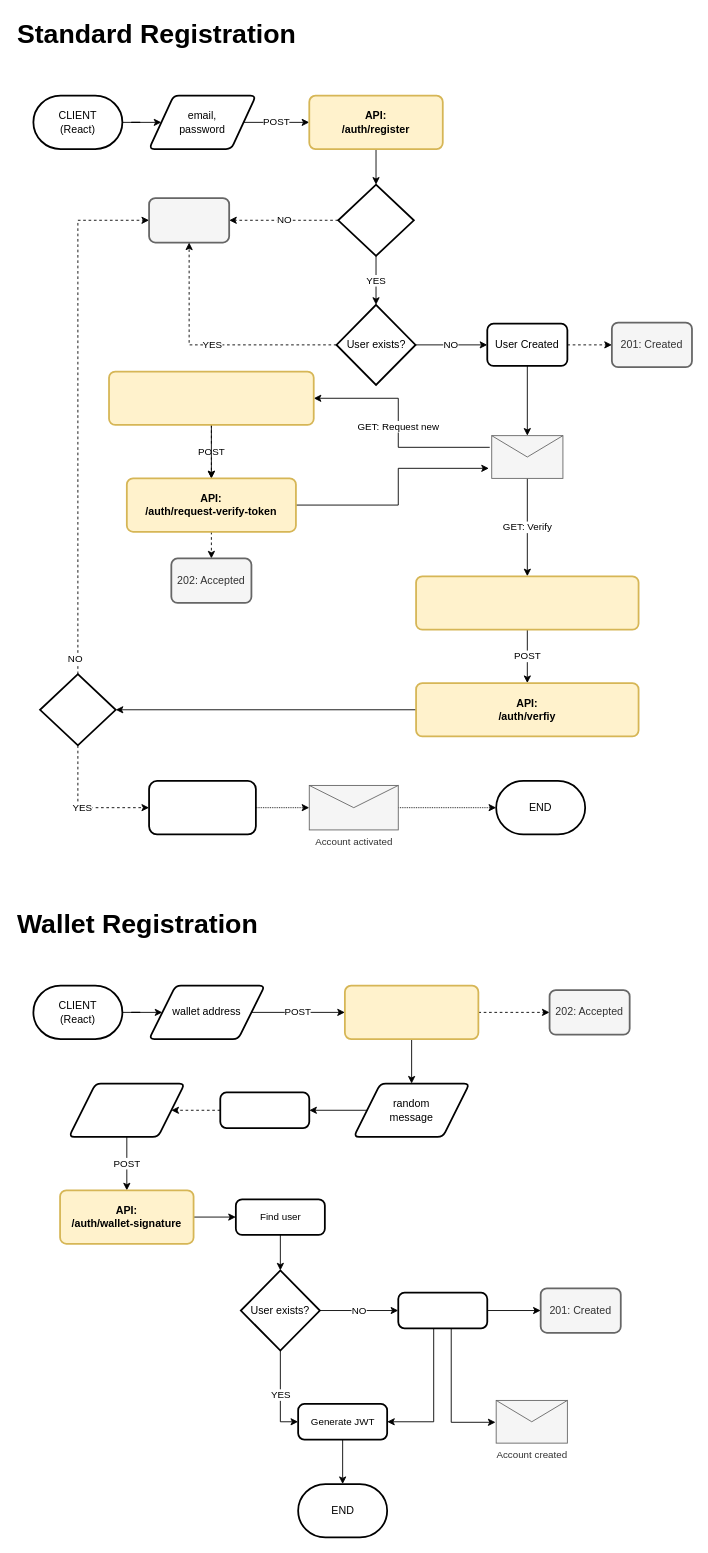
Some shapes in this 708 by 1553 pixel diagram are drawn without their labels. Each missing label, with the centre of its shape:
"400: Bad Request" belongs at (189,220).
"Account verified" belongs at (202,807).
"API: /auth/wallet-message" belongs at (411,1012).
"Autoverified user created" belongs at (442,1310).
"CLIENT: /auth/resend-verification-email?email=" belongs at (211,397).
"CLIENT: /auth/verify-account?token=&email=" belongs at (527,602).
"Is data valid?" belongs at (375,219).
"Is token valid?" belongs at (77,709).
"Metamask" belongs at (264,1110).
"Signature" belongs at (126,1109).
"Verification link" belongs at (527,456).
